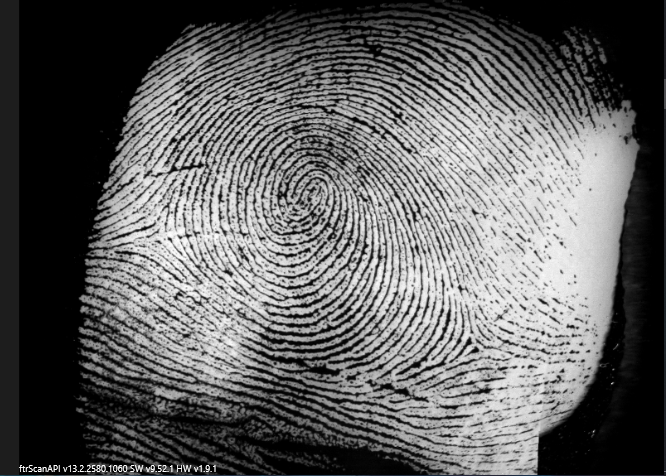nucelo: (289, 168, 329, 215)
verticilo: (144, 215, 176, 250), (455, 328, 492, 358)
